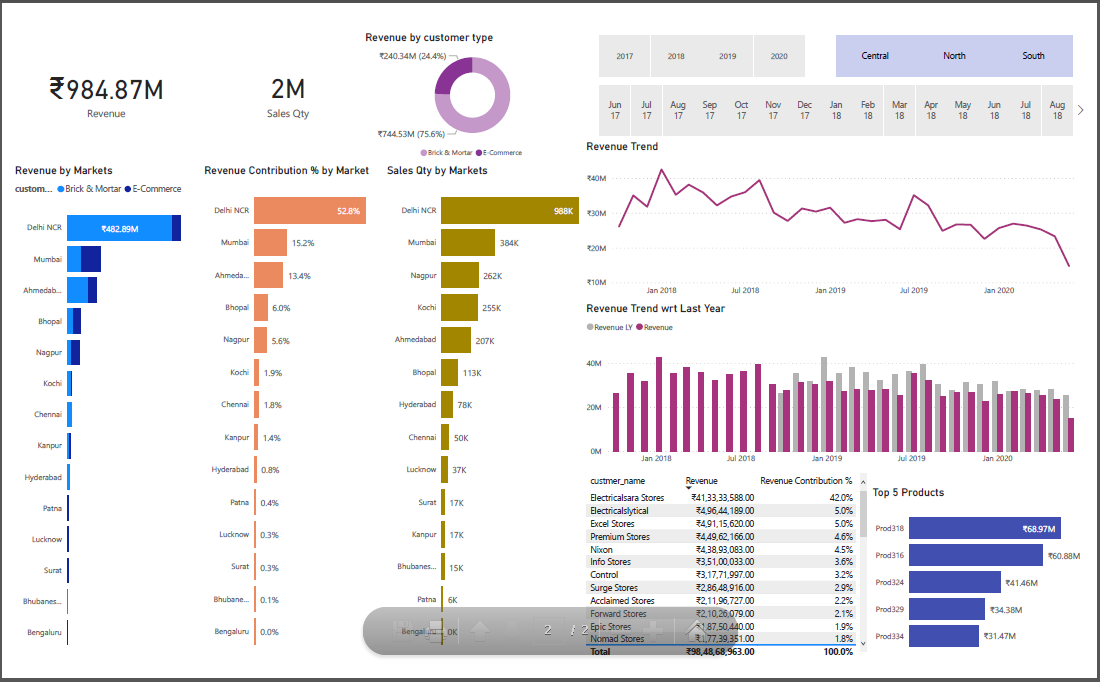

What the dashboard file says about the page in this screenshot:
{"tool":"powerbi","page":{"name":"Page 2","canvas":[1680,1000],"ordinal":1},"visuals":[{"type":"card","fields":{"Values":["BaseMeasures.Revenue"]},"box":[0,0,295.4,225.5],"z":0},{"type":"card","fields":{"Values":["BaseMeasures.Sales Qty"]},"box":[315.4,0,231.5,223.6],"z":1000},{"type":"barChart","title":"Revenue by Markets","fields":{"Y":["BaseMeasures.Revenue"],"Category":["sales markets.markets_name"],"Series":["sales customers.customer_type"]},"box":[0,223.6,295.4,776.4],"z":2000},{"type":"barChart","title":"Sales Qty by Markets","fields":{"Y":["BaseMeasures.Sales Qty"],"Category":["sales markets.markets_name"]},"box":[580.8,223.6,311.4,776.4],"z":3000},{"type":"slicer","fields":{"Values":["sales date.year"]},"box":[892.2,16,369.3,77.8],"z":4000},{"type":"slicer","fields":{"Values":["sales date.cy_date"]},"box":[892.2,93.8,788.4,91.8],"z":5000},{"type":"tableEx","title":"Top 5 Customers","fields":{"Values":["sales customers.custmer_name","BaseMeasures.Revenue","BaseMeasures.Revenue Contribution"]},"box":[892.2,702.6,447.1,297.4],"z":6000},{"type":"barChart","title":"Top 5 Products","fields":{"Category":["sales transactions.product_code"],"Y":["BaseMeasures.Revenue"]},"box":[1339.3,726.5,341.3,273.5],"z":7000},{"type":"lineChart","title":"Revenue Trend","fields":{"Y":["BaseMeasures.Revenue"],"Category":["sales date.cy_date"]},"box":[892.2,185.6,788.4,253.5],"z":8000},{"type":"slicer","fields":{"Values":["sales markets.zone"]},"box":[1260.8,16,419.2,77.8],"z":9000},{"type":"barChart","title":"Revenue Contribution % by Market","fields":{"Y":["BaseMeasures.Revenue Contribution"],"Category":["sales markets.markets_name"]},"box":[295.4,223.6,285.4,776.4],"z":10000},{"type":"donutChart","title":"Revenue by customer type","fields":{"Category":["sales customers.customer_type"],"Y":["BaseMeasures.Revenue"]},"box":[546.9,16,345.3,207.6],"z":11000},{"type":"lineClusteredColumnComboChart","title":"Revenue Trend wrt Last Year","fields":{"Category":["sales date.cy_date"],"Y":["BaseMeasures.Revenue LY","BaseMeasures.Revenue"]},"box":[892.2,439.1,788.4,263.5],"z":12000}]}

Visuals, with their boxes on the page's 1680x1000 design canvas (x1, y1, x2, y2). These are canvas units, not pixel positions in the 1100x682 screenshot, which may show the page scaled, cropped or inside an application window:
card - BaseMeasures.Revenue: detection(0, 0, 295, 226)
card - BaseMeasures.Sales Qty: detection(315, 0, 547, 224)
"Revenue by Markets" barChart: detection(0, 224, 295, 1000)
"Sales Qty by Markets" barChart: detection(581, 224, 892, 1000)
slicer - sales date.year: detection(892, 16, 1262, 94)
slicer - sales date.cy_date: detection(892, 94, 1681, 186)
"Top 5 Customers" tableEx: detection(892, 703, 1339, 1000)
"Top 5 Products" barChart: detection(1339, 726, 1681, 1000)
"Revenue Trend" lineChart: detection(892, 186, 1681, 439)
slicer - sales markets.zone: detection(1261, 16, 1680, 94)
"Revenue Contribution % by Market" barChart: detection(295, 224, 581, 1000)
"Revenue by customer type" donutChart: detection(547, 16, 892, 224)
"Revenue Trend wrt Last Year" lineClusteredColumnComboChart: detection(892, 439, 1681, 703)
